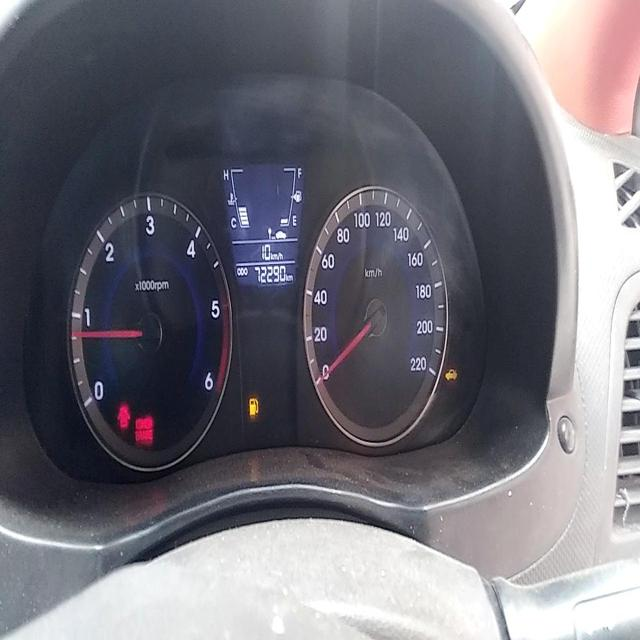odometer: (252, 263, 287, 283)
